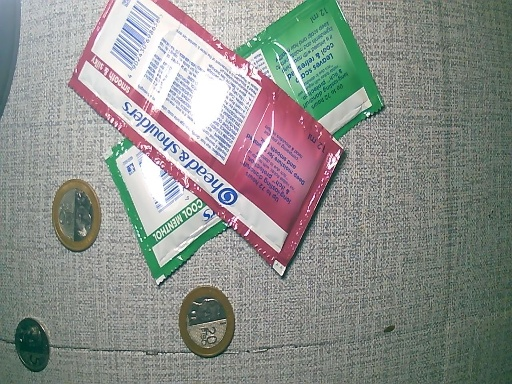metal: (179, 287, 237, 355), (52, 180, 99, 254), (16, 314, 52, 372)
plastic: (64, 1, 352, 274), (217, 2, 391, 124), (107, 145, 243, 281)
